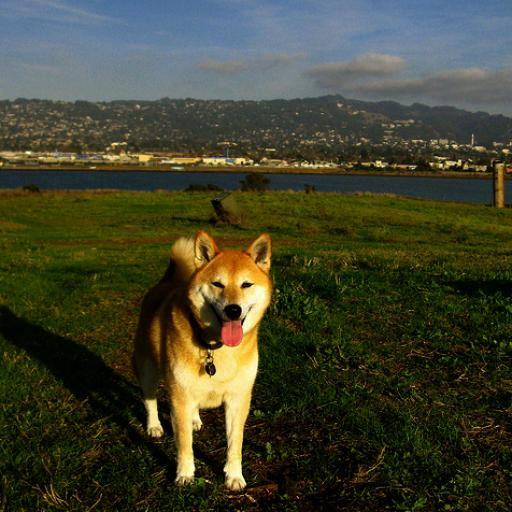dog_face: (182, 235, 285, 344)
